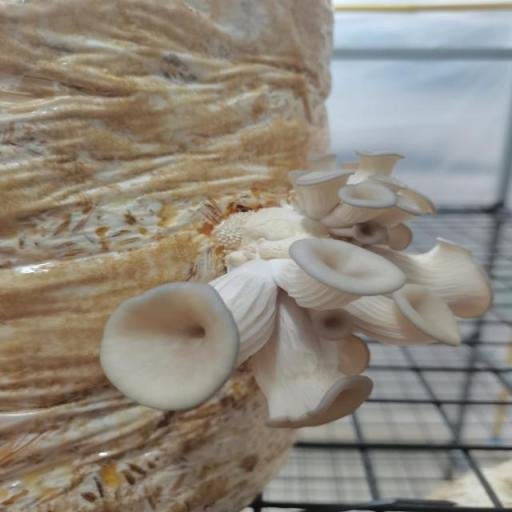White Oyster Mushroom: (104, 222, 493, 439), (280, 124, 451, 256)
